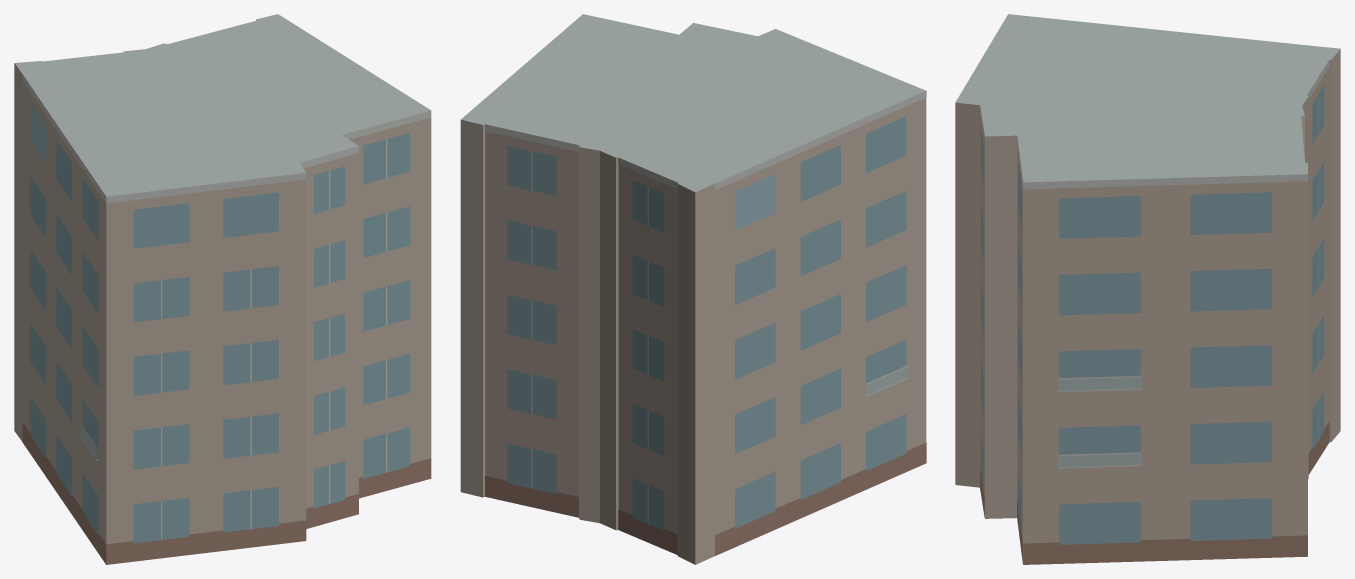
The model's file is survey-upis-32727628.glb.
The picture shows the model from 3 angles, left to right: view 1: azimuth 30°, elevation 25°; view 2: azimuth 150°, elevation 25°; view 3: azimuth 270°, elevation 25°; orthographic projection. The views are drawn at different scales.
Parts seen in each view (by area): view 1: survey-upis-32727628.tmp; view 2: survey-upis-32727628.tmp; view 3: survey-upis-32727628.tmp.
Boxes of the visible parts, bbox=[...] form: survey-upis-32727628.tmp: bbox=[14, 14, 431, 564]; survey-upis-32727628.tmp: bbox=[460, 14, 926, 564]; survey-upis-32727628.tmp: bbox=[955, 14, 1340, 564].
Bounding box in the file's own units: 12.52 × 13.25 × 12.11.
